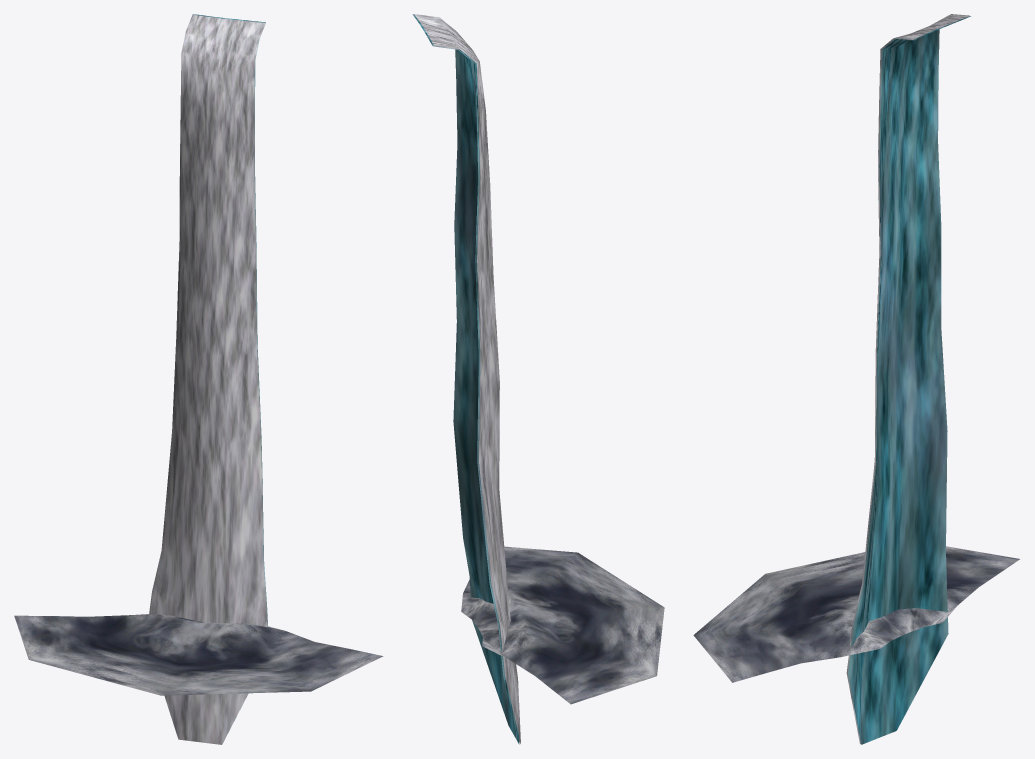
Rendered from OVERHILL_A_01_WATERFALLS02.fbx.
The picture shows the model from 3 angles, left to right: view 1: azimuth 30°, elevation 25°; view 2: azimuth 150°, elevation 25°; view 3: azimuth 270°, elevation 25°; orthographic projection. The views are drawn at different scales.
Parts seen in each view (by area): view 1: OVERHILL_A_01_WATERFALLS02; view 2: OVERHILL_A_01_WATERFALLS02; view 3: OVERHILL_A_01_WATERFALLS02.
Part boxes in pixels (<box>): OVERHILL_A_01_WATERFALLS02: <box>14,14,383,744</box>; OVERHILL_A_01_WATERFALLS02: <box>412,14,664,744</box>; OVERHILL_A_01_WATERFALLS02: <box>693,14,1019,744</box>.
Bounding box in the file's own units: 74302 × 180810 × 72409.
Materials: 3 (3 with a texture image).
